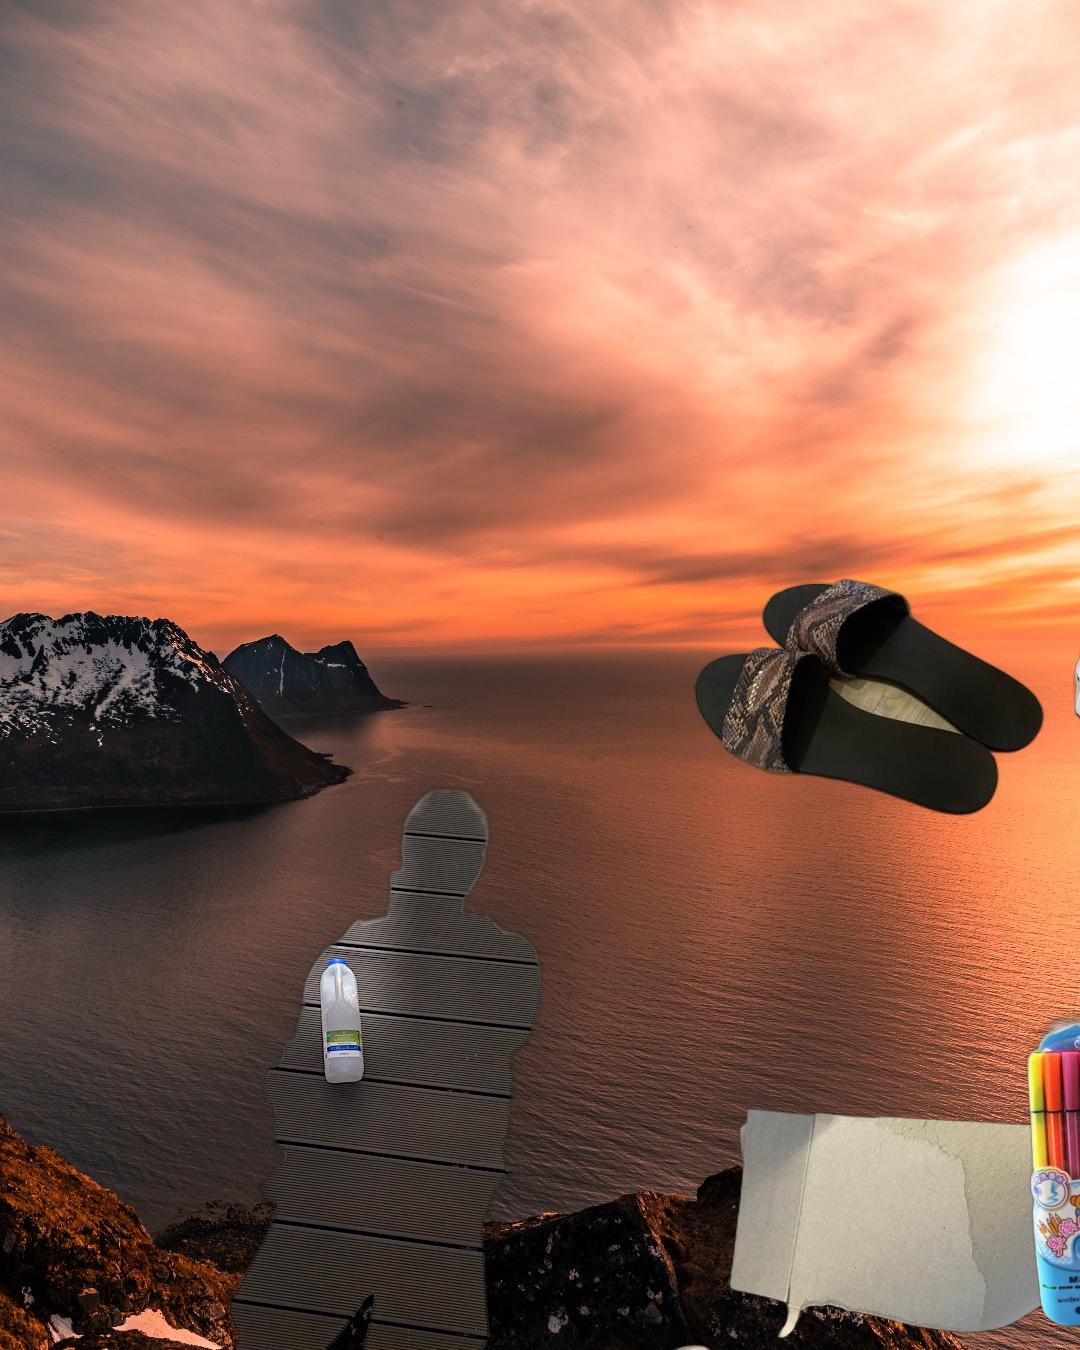glass: (634, 1341, 1080, 1350)
paper: (726, 1105, 1080, 1342)
penholder: (1021, 1010, 1080, 1350)
plastic-bottles: (216, 783, 584, 1350)
shoes: (690, 576, 1048, 819)
trash: (1071, 550, 1080, 760)
